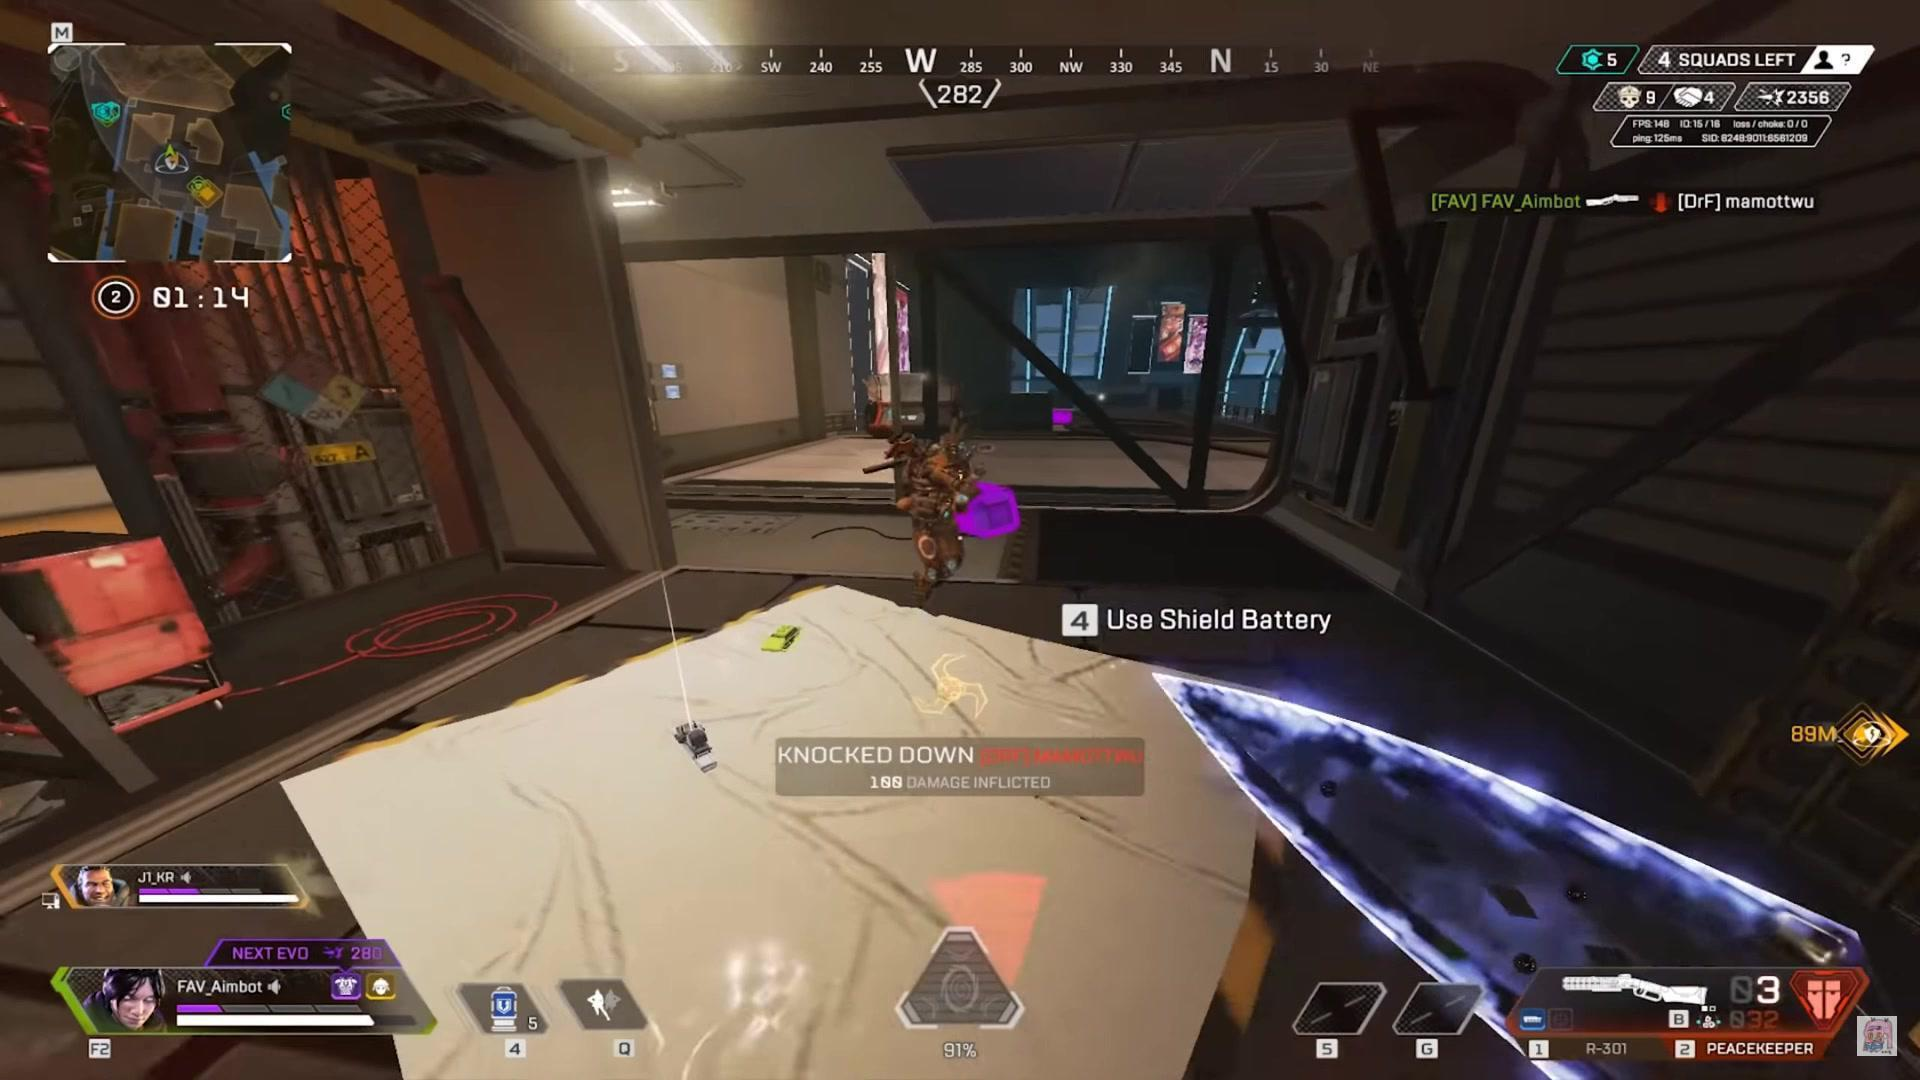avatar: (888, 425, 974, 609)
